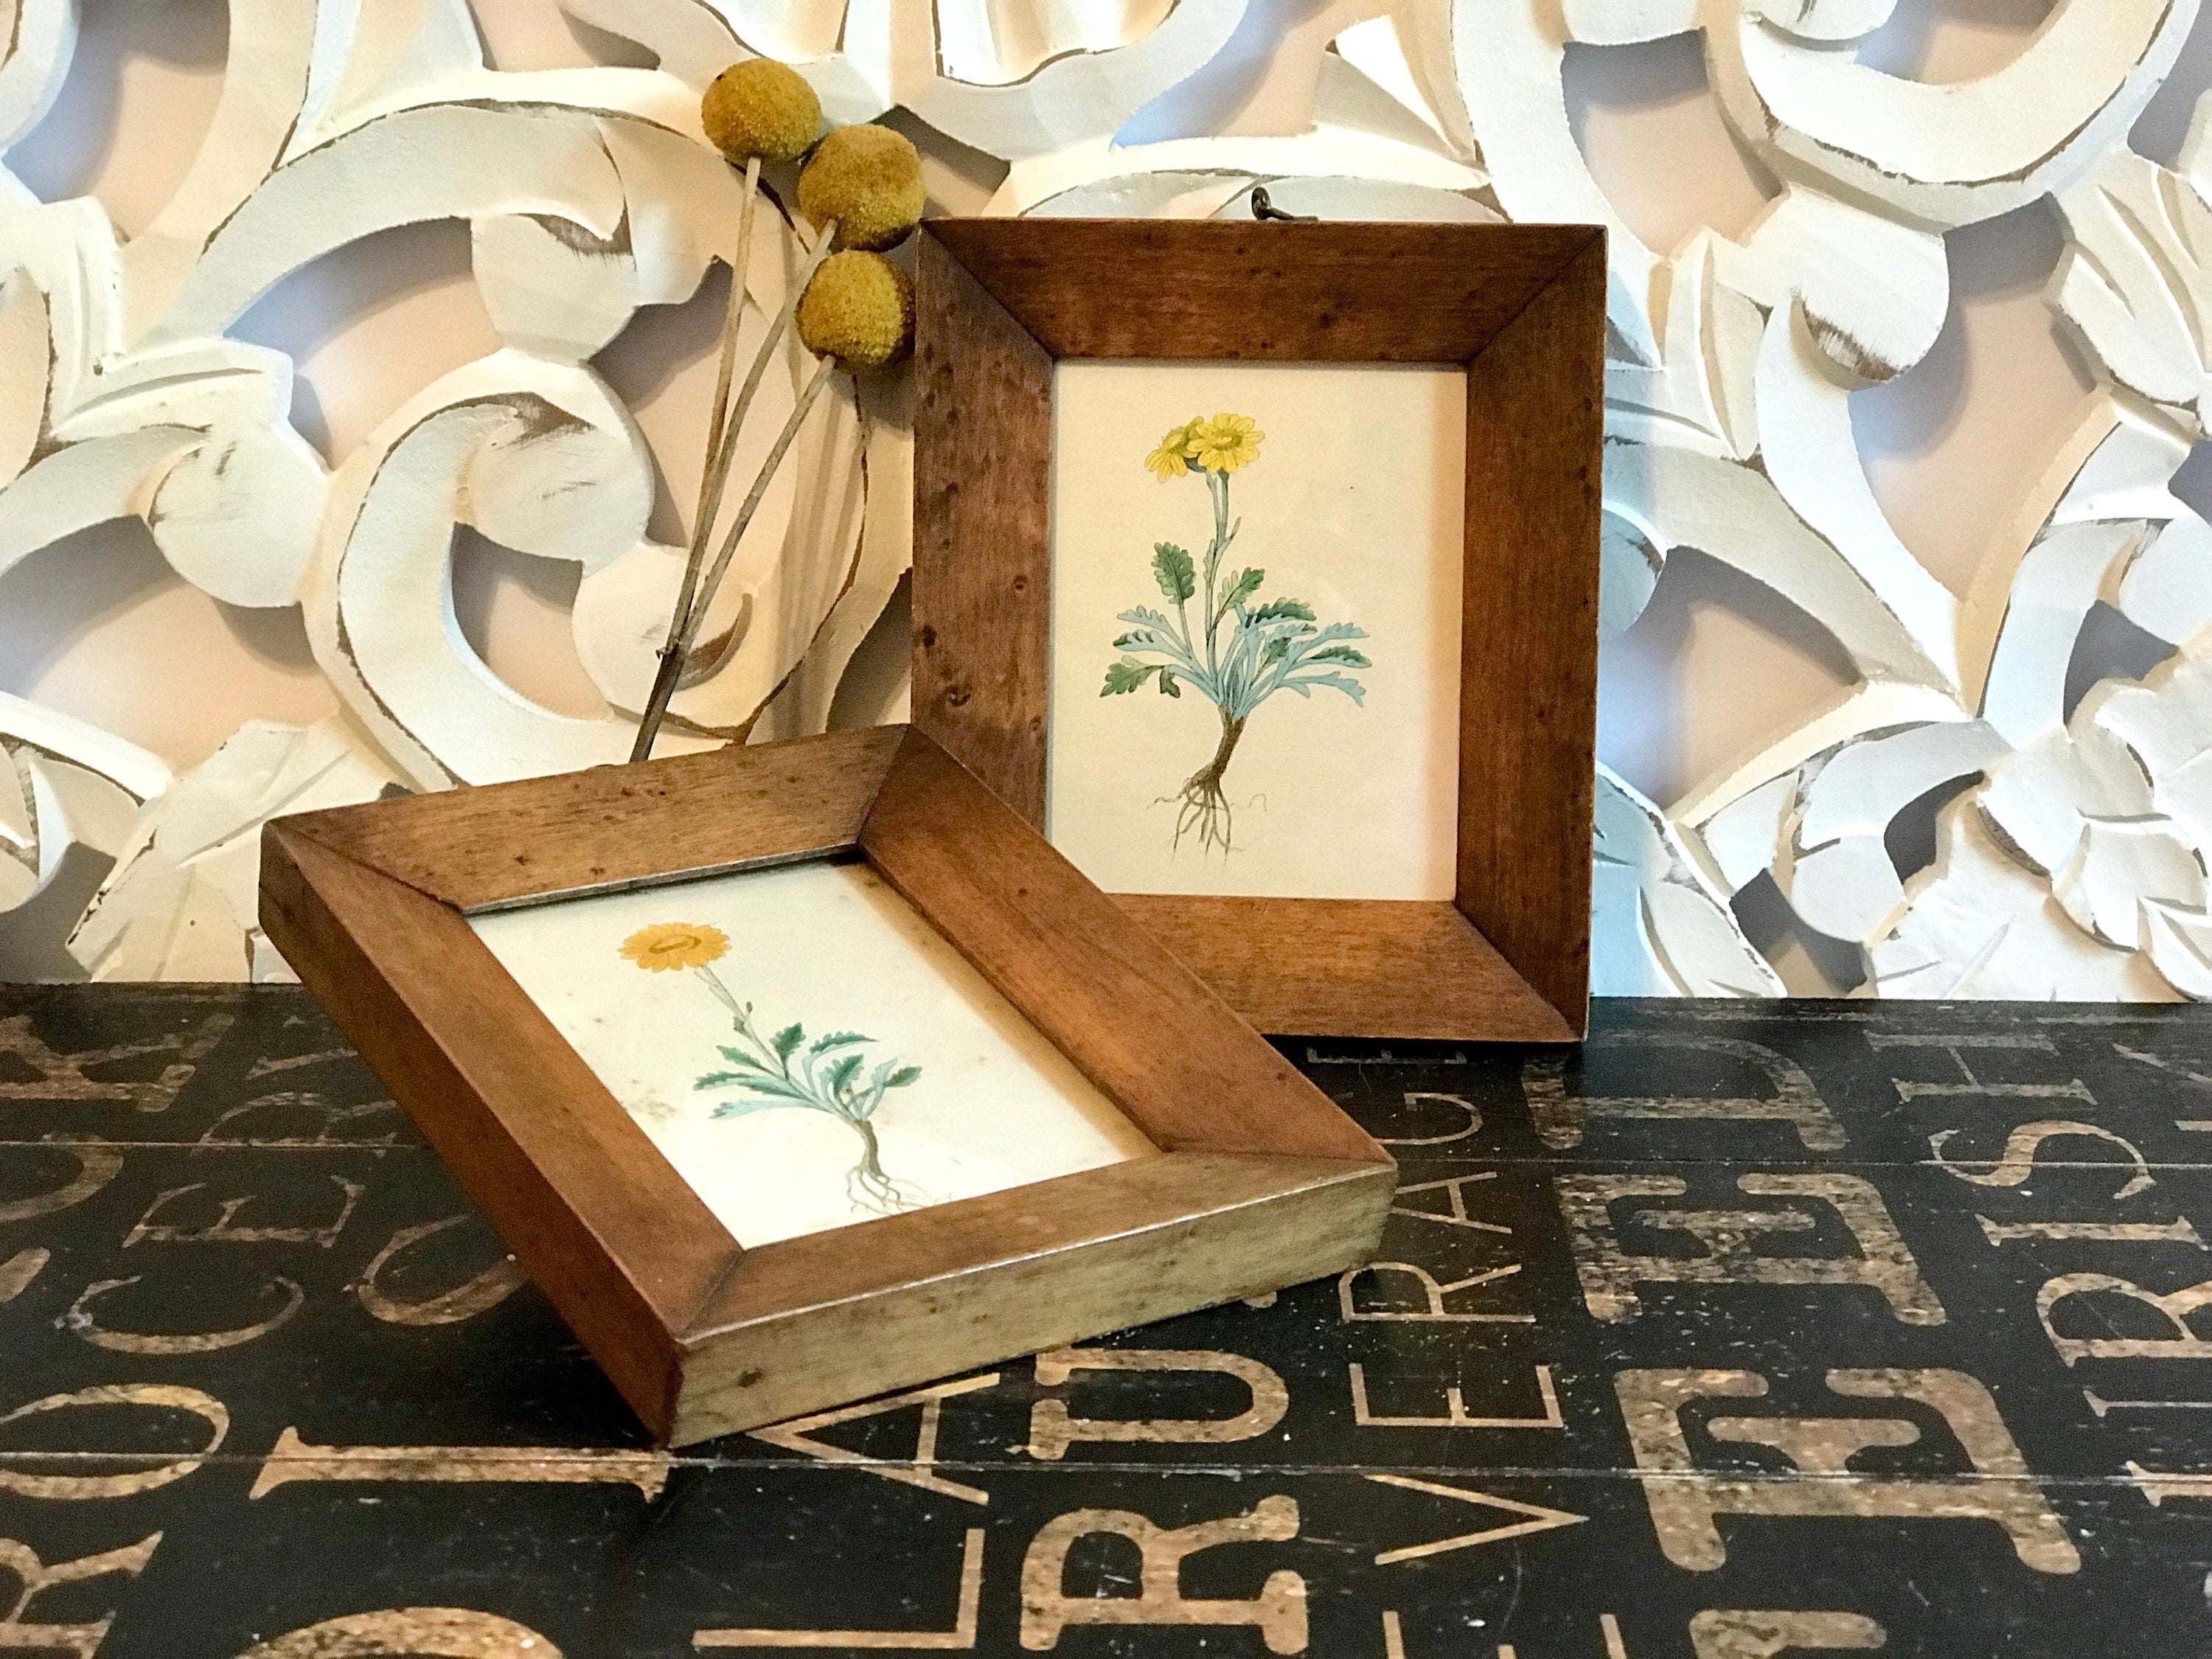dandelion: (611, 917, 733, 978), (1155, 423, 1261, 484)
